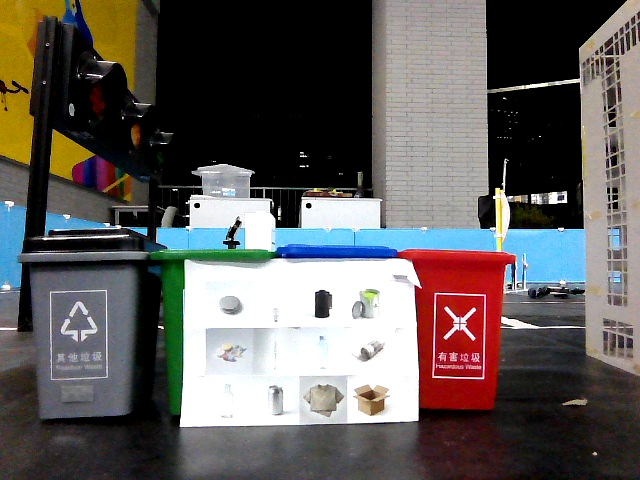hazardous_trash: (210, 284, 253, 326), (256, 287, 301, 327), (255, 334, 302, 371), (346, 284, 389, 322), (305, 284, 342, 327), (209, 333, 250, 366)
recyclable_trash: (253, 378, 300, 425), (303, 375, 350, 422), (208, 376, 250, 422), (351, 376, 394, 420), (306, 329, 345, 369), (349, 331, 389, 367)
